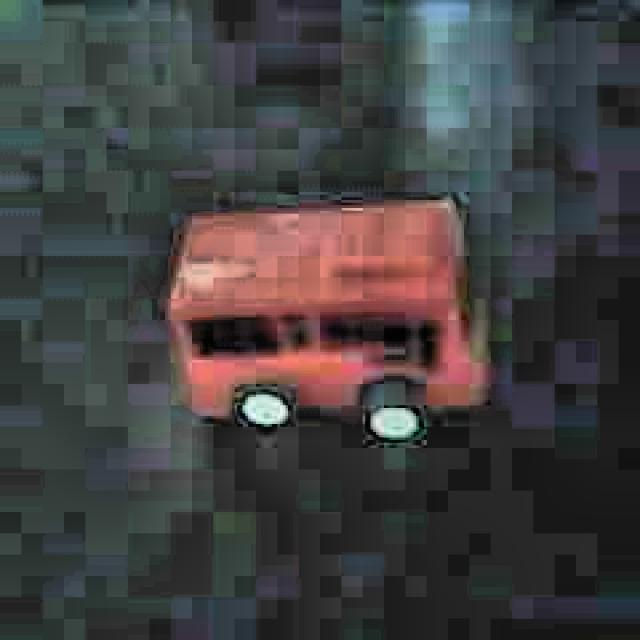bus: (160, 188, 491, 478)
